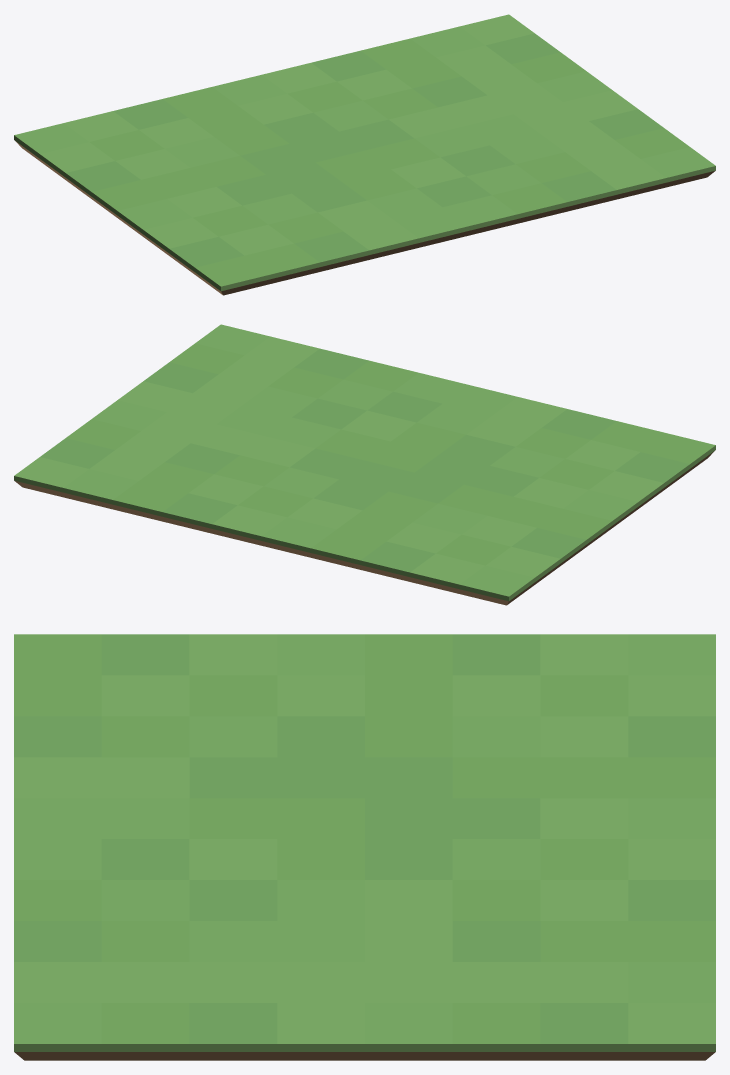
File: ground.glb
The picture shows the model from 3 angles, top to bottom: view 1: azimuth 30°, elevation 25°; view 2: azimuth 150°, elevation 25°; view 3: azimuth 270°, elevation 25°; orthographic projection. The views are drawn at different scales.
Visible parts, largest first — view 1: TinyWorld Grass Plot; view 2: TinyWorld Grass Plot; view 3: TinyWorld Grass Plot.
Boxes of the visible parts, x1,y1,x2,y2 form: TinyWorld Grass Plot: [14, 14, 715, 295]; TinyWorld Grass Plot: [14, 324, 715, 605]; TinyWorld Grass Plot: [14, 634, 715, 1060].
Bounding box in the file's own units: 11.6 × 0.28 × 8.4.
